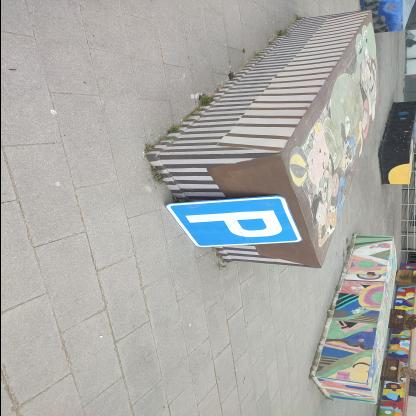Parking-Sign: (163, 196, 302, 250)
